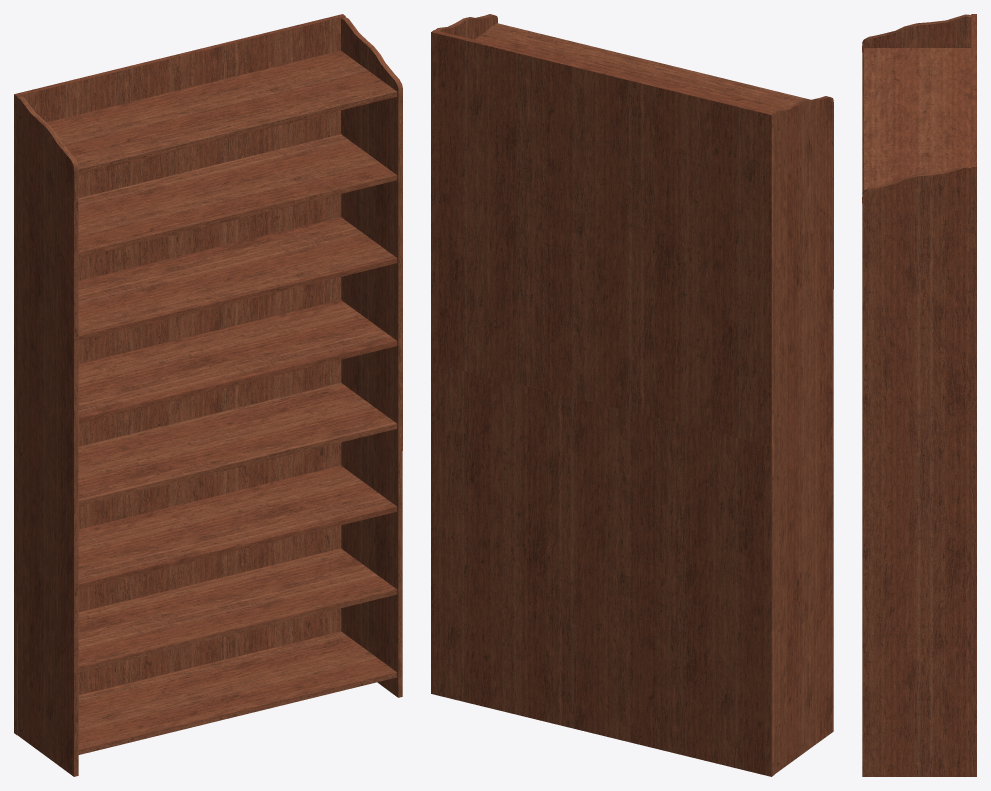
The model's file is SM_BookCase_a_001.fbx.
3 renders of one model, left to right at view 1: azimuth 30°, elevation 25°; view 2: azimuth 150°, elevation 25°; view 3: azimuth 270°, elevation 25°, orthographic. The views are drawn at different scales.
Visible parts, largest first — view 1: SM_BookCase_a_001; view 2: SM_BookCase_a_001; view 3: SM_BookCase_a_001.
Boxes of the visible parts, left/top/right/bottom form: SM_BookCase_a_001: left=14, top=14, right=402, bottom=776; SM_BookCase_a_001: left=431, top=14, right=833, bottom=776; SM_BookCase_a_001: left=862, top=14, right=976, bottom=776.
Size of the model in its own units: 125 by 231 by 39.4.
